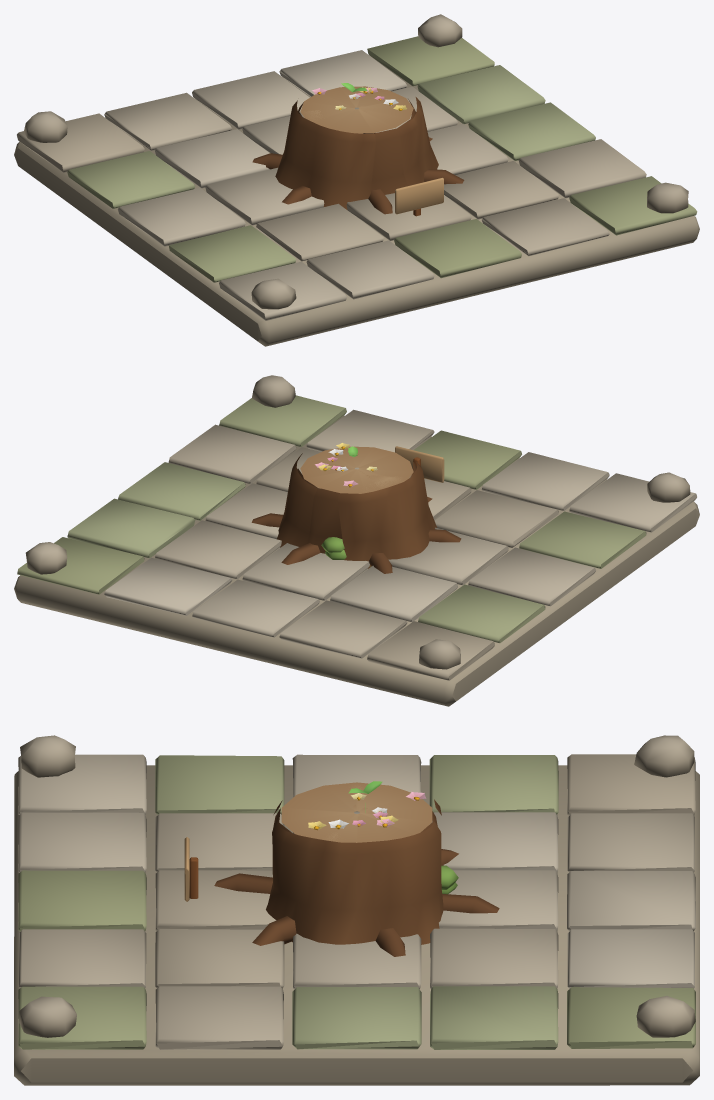
The picture shows the model from 3 angles, top to bottom: view 1: azimuth 30°, elevation 25°; view 2: azimuth 150°, elevation 25°; view 3: azimuth 270°, elevation 25°; orthographic projection. The views are drawn at different scales.
Parts seen in each view (by area): view 1: boss_plinth, boss_stump_cracked, boss_stump_bloom, boss_stump; view 2: boss_plinth, boss_stump_cracked, boss_stump_bloom, boss_stump; view 3: boss_plinth, boss_stump_cracked, boss_stump_bloom, boss_stump.
Boxes of the visible parts, bbox=[...] form: boss_plinth: bbox=[14, 14, 699, 346]; boss_stump_cracked: bbox=[252, 97, 464, 214]; boss_stump_bloom: bbox=[300, 83, 443, 215]; boss_stump: bbox=[298, 99, 443, 216]; boss_plinth: bbox=[14, 375, 699, 706]; boss_stump_cracked: bbox=[251, 453, 461, 573]; boss_stump_bloom: bbox=[297, 443, 443, 559]; boss_stump: bbox=[304, 446, 444, 566]; boss_plinth: bbox=[14, 735, 699, 1085]; boss_stump_cracked: bbox=[214, 799, 499, 956]; boss_stump_bloom: bbox=[184, 781, 457, 901]; boss_stump: bbox=[184, 782, 458, 901].
Size of the model in its own units: 4 by 1.08 by 4.
